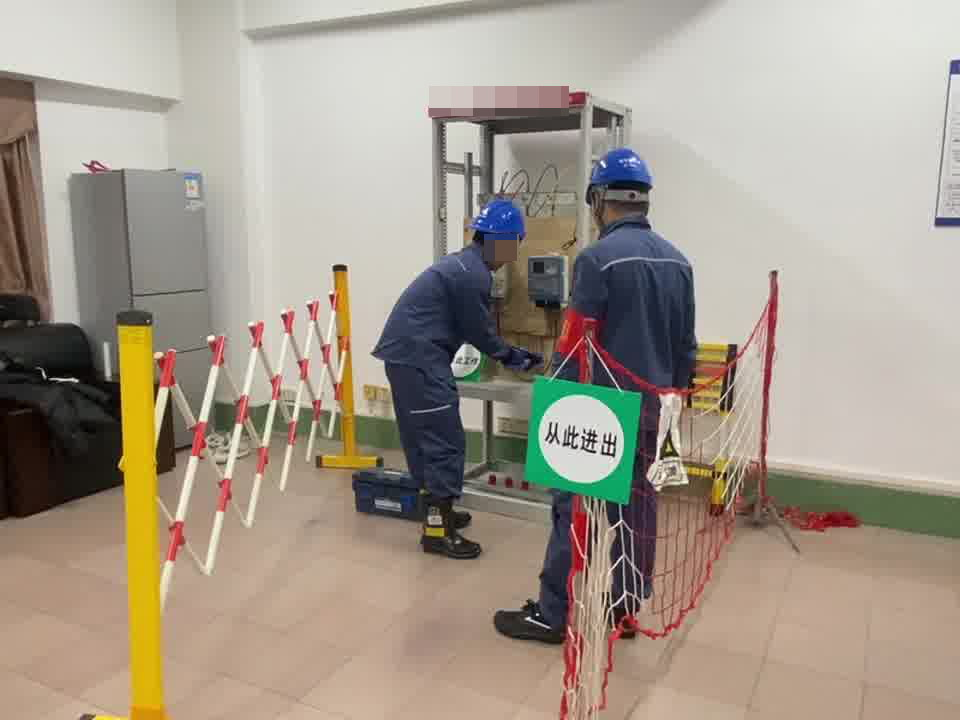badge: (556, 306, 602, 357)
downsuit: (532, 400, 664, 620), (384, 373, 469, 504)
fhalt: (471, 198, 529, 268)
glove: (503, 346, 544, 374)
halt: (585, 147, 657, 220)
inear: (587, 193, 615, 241), (493, 231, 517, 268)
intosign: (516, 369, 644, 508)
person: (521, 145, 706, 636), (373, 196, 543, 546)
shoe: (410, 493, 486, 565)
upsuit: (560, 221, 701, 386), (378, 246, 504, 363)
worksign: (450, 341, 484, 384)
